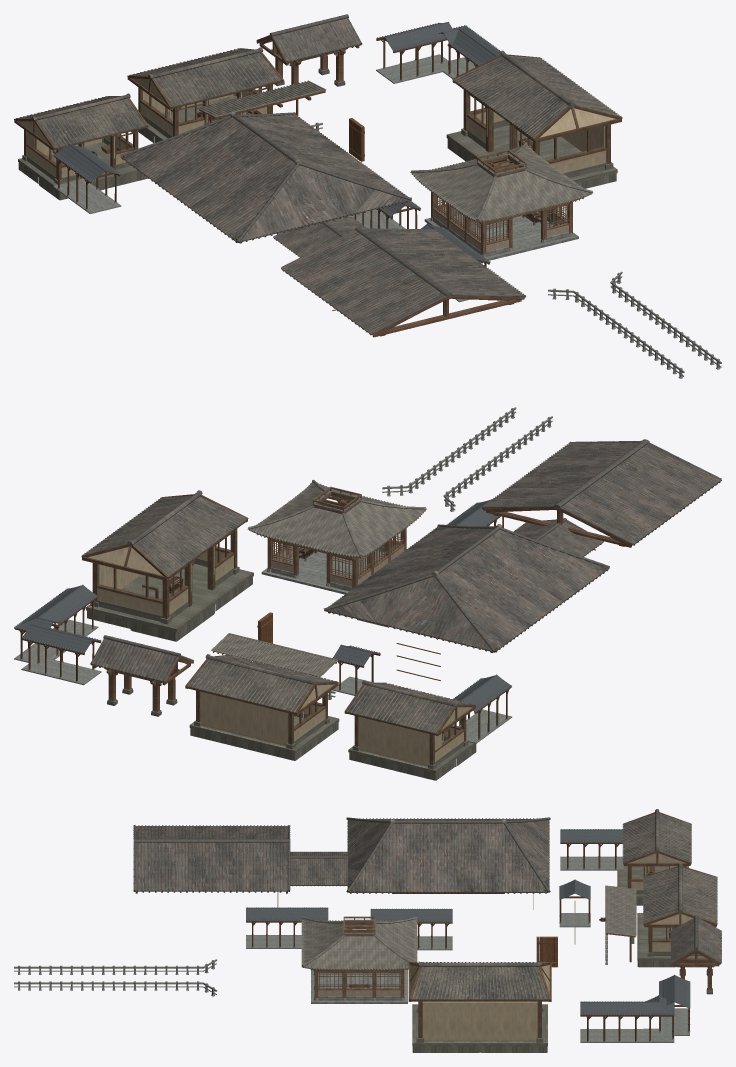
File: 首章建筑_近档审查.glb
The picture shows the model from 3 angles, top to bottom: view 1: azimuth 30°, elevation 25°; view 2: azimuth 150°, elevation 25°; view 3: azimuth 270°, elevation 25°; orthographic projection. The views are drawn at different scales.
Visible parts, largest first — view 1: 山间校院 · 场景陈设/院落建筑与器物/CourtHallRoofSet/CourtMainRoof/CourtMain, 山间校院 · 场景陈设/院落建筑与器物/CourtHallRoofSet/CourtLowWing/CourtLowWi (×2), 首章外景细化/工官建筑 · 测候台远景 · 校器工坊/LOD0, 山间校院 · 场景陈设/院落建筑与器物/TianyiPavilionSet/TianyiPavilion/梁架、墙体与屋, 首章外景细化/工官建筑 · 西窗外 · 校矩作坊/LOD0, 首章外景细化/工官建筑 · 东窗外 · 规尺长坊/LOD0, 山间校院 · 场景陈设/院落建筑与器物/GalleryStraight/GalleryStraight_LOD0 (×5), 山间校院 · 场景陈设/院落建筑与器物/CourtGatehouse/CourtGatehouse_Tier0, 第一章 · 初醒校验室/校规庭 · 同心合矩/静态合并_CourtGallery, 山间校院 · 场景陈设/院落建筑与器物/GalleryCorner/GalleryCorner_LOD0, 第一章 · 初醒校验室/校验门/校验闸; view 2: 山间校院 · 场景陈设/院落建筑与器物/CourtHallRoofSet/CourtMainRoof/CourtMain, 首章外景细化/工官建筑 · 测候台远景 · 校器工坊/LOD0, 山间校院 · 场景陈设/院落建筑与器物/CourtHallRoofSet/CourtLowWing/CourtLowWi (×2), 山间校院 · 场景陈设/院落建筑与器物/TianyiPavilionSet/TianyiPavilion/梁架、墙体与屋, 首章外景细化/工官建筑 · 东窗外 · 规尺长坊/LOD0, 首章外景细化/工官建筑 · 西窗外 · 校矩作坊/LOD0, 山间校院 · 场景陈设/院落建筑与器物/GalleryStraight/GalleryStraight_LOD0 (×7), 山间校院 · 场景陈设/院落建筑与器物/CourtGatehouse/CourtGatehouse_Tier0, 第一章 · 初醒校验室/校规庭 · 同心合矩/静态合并_CourtGallery, 山间校院 · 场景陈设/院落建筑与器物/GalleryCorner/GalleryCorner_LOD0; view 3: 山间校院 · 场景陈设/院落建筑与器物/CourtHallRoofSet/CourtMainRoof/CourtMain, 首章外景细化/工官建筑 · 测候台远景 · 校器工坊/LOD0, 山间校院 · 场景陈设/院落建筑与器物/CourtHallRoofSet/CourtLowWing/CourtLowWi (×2), 山间校院 · 场景陈设/院落建筑与器物/GalleryStraight/GalleryStraight_LOD0 (×11), 山间校院 · 场景陈设/院落建筑与器物/TianyiPavilionSet/TianyiPavilion/梁架、墙体与屋, 首章外景细化/工官建筑 · 东窗外 · 规尺长坊/LOD0, 首章外景细化/工官建筑 · 西窗外 · 校矩作坊/LOD0, 山间校院 · 场景陈设/院落建筑与器物/CourtGatehouse/CourtGatehouse_Tier0, 第一章 · 初醒校验室/校规庭 · 同心合矩/静态合并_CourtGallery, 山间校院 · 场景陈设/院落建筑与器物/GalleryCorner/GalleryCorner_LOD0, 第一章 · 初醒校验室/校验门/校验闸.
Part boxes in pixels (x1,y1,x2,y2): 山间校院 · 场景陈设/院落建筑与器物/CourtHallRoofSet/CourtMainRoof/CourtMain: [120, 112, 411, 243]; 山间校院 · 场景陈设/院落建筑与器物/CourtHallRoofSet/CourtLowWing/CourtLowWi (×2): [273, 217, 526, 337]; 首章外景细化/工官建筑 · 测候台远景 · 校器工坊/LOD0: [446, 50, 622, 188]; 山间校院 · 场景陈设/院落建筑与器物/TianyiPavilionSet/TianyiPavilion/梁架、墙体与屋: [410, 142, 592, 261]; 首章外景细化/工官建筑 · 西窗外 · 校矩作坊/LOD0: [14, 93, 148, 200]; 首章外景细化/工官建筑 · 东窗外 · 规尺长坊/LOD0: [127, 47, 283, 142]; 山间校院 · 场景陈设/院落建筑与器物/GalleryStraight/GalleryStraight_LOD0 (×5): [53, 21, 499, 213]; 山间校院 · 场景陈设/院落建筑与器物/CourtGatehouse/CourtGatehouse_Tier0: [256, 14, 362, 86]; 第一章 · 初醒校验室/校规庭 · 同心合矩/静态合并_CourtGallery: [197, 80, 326, 131]; 山间校院 · 场景陈设/院落建筑与器物/GalleryCorner/GalleryCorner_LOD0: [435, 25, 483, 78]; 第一章 · 初醒校验室/校验门/校验闸: [349, 118, 364, 161]; 山间校院 · 场景陈设/院落建筑与器物/CourtHallRoofSet/CourtMainRoof/CourtMain: [323, 524, 609, 652]; 首章外景细化/工官建筑 · 测候台远景 · 校器工坊/LOD0: [81, 490, 253, 641]; 山间校院 · 场景陈设/院落建筑与器物/CourtHallRoofSet/CourtLowWing/CourtLowWi (×2): [481, 439, 721, 556]; 山间校院 · 场景陈设/院落建筑与器物/TianyiPavilionSet/TianyiPavilion/梁架、墙体与屋: [247, 479, 426, 594]; 首章外景细化/工官建筑 · 东窗外 · 规尺长坊/LOD0: [185, 654, 339, 760]; 首章外景细化/工官建筑 · 西窗外 · 校矩作坊/LOD0: [344, 680, 476, 780]; 山间校院 · 场景陈设/院落建筑与器物/GalleryStraight/GalleryStraight_LOD0 (×7): [21, 584, 512, 743]; 山间校院 · 场景陈设/院落建筑与器物/CourtGatehouse/CourtGatehouse_Tier0: [90, 635, 193, 716]; 第一章 · 初醒校验室/校规庭 · 同心合矩/静态合并_CourtGallery: [211, 633, 337, 699]; 山间校院 · 场景陈设/院落建筑与器物/GalleryCorner/GalleryCorner_LOD0: [14, 611, 62, 664]; 山间校院 · 场景陈设/院落建筑与器物/CourtHallRoofSet/CourtMainRoof/CourtMain: [346, 817, 550, 893]; 首章外景细化/工官建筑 · 测候台远景 · 校器工坊/LOD0: [408, 961, 551, 1052]; 山间校院 · 场景陈设/院落建筑与器物/CourtHallRoofSet/CourtLowWing/CourtLowWi (×2): [133, 825, 347, 893]; 山间校院 · 场景陈设/院落建筑与器物/GalleryStraight/GalleryStraight_LOD0 (×11): [246, 829, 690, 1042]; 山间校院 · 场景陈设/院落建筑与器物/TianyiPavilionSet/TianyiPavilion/梁架、墙体与屋: [301, 916, 417, 1003]; 首章外景细化/工官建筑 · 东窗外 · 规尺长坊/LOD0: [637, 863, 717, 967]; 首章外景细化/工官建筑 · 西窗外 · 校矩作坊/LOD0: [617, 809, 691, 905]; 山间校院 · 场景陈设/院落建筑与器物/CourtGatehouse/CourtGatehouse_Tier0: [670, 915, 721, 994]; 第一章 · 初醒校验室/校规庭 · 同心合矩/静态合并_CourtGallery: [599, 885, 636, 964]; 山间校院 · 场景陈设/院落建筑与器物/GalleryCorner/GalleryCorner_LOD0: [643, 995, 674, 1042]; 第一章 · 初醒校验室/校验门/校验闸: [536, 936, 557, 967].
Size of the model in its own units: 42.07 by 10.07 by 67.16.
17 materials, 16 textured.
